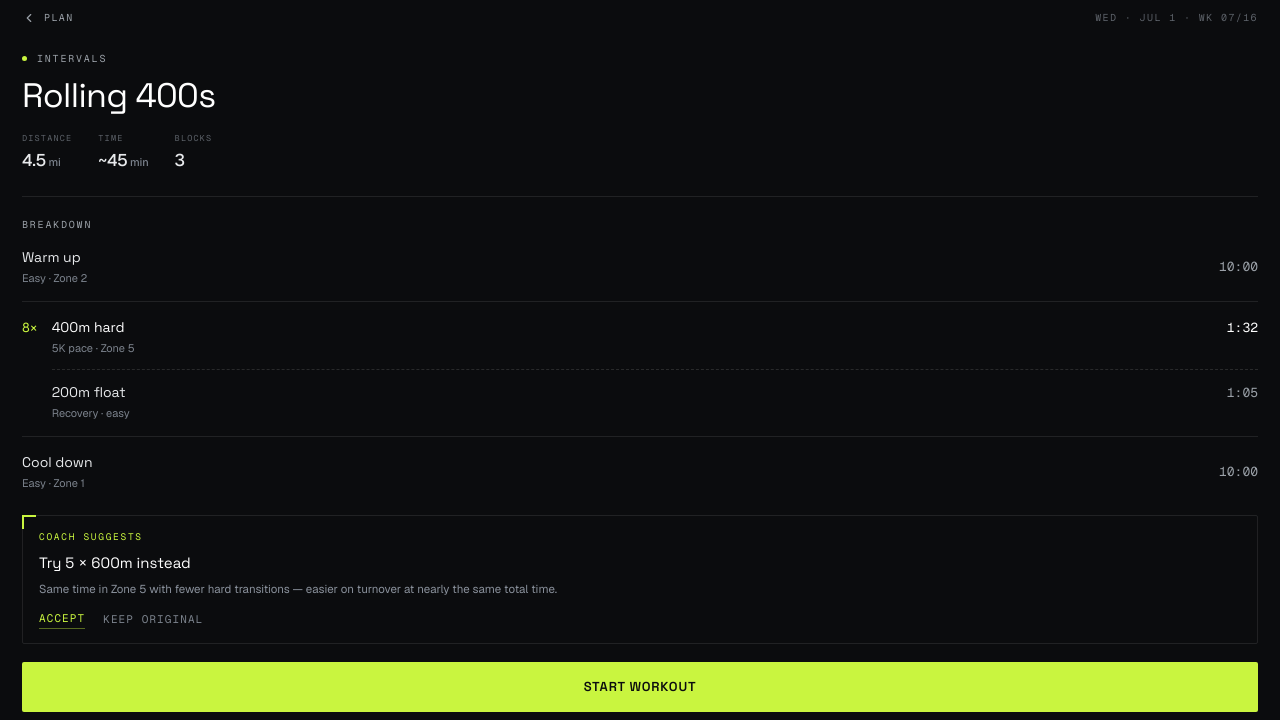
Test case: ACCEPT swaps the breakdown to the 5x600m proposal via the repo
This screenshot has width=1280, height=720.
What coordinates should you click on to do the following:
click the button "ACCEPT"
I would click on:
 (62, 619)
Its box is [39,610,85,629].
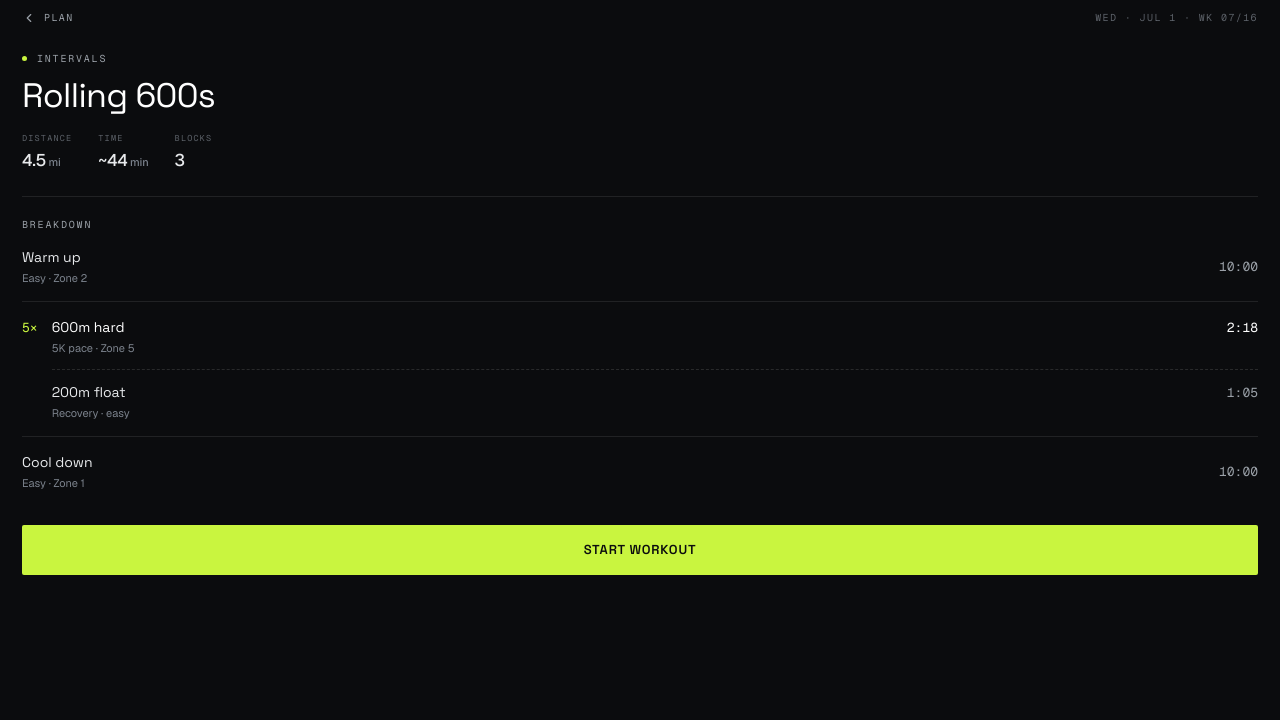
Check: the text "Rolling 600s" is shown, box [22,74,215,117]
Check: the text "5×" is shown, box [22,319,38,336]
Check: the text "600m hard" is shown, box [52,317,134,338]
